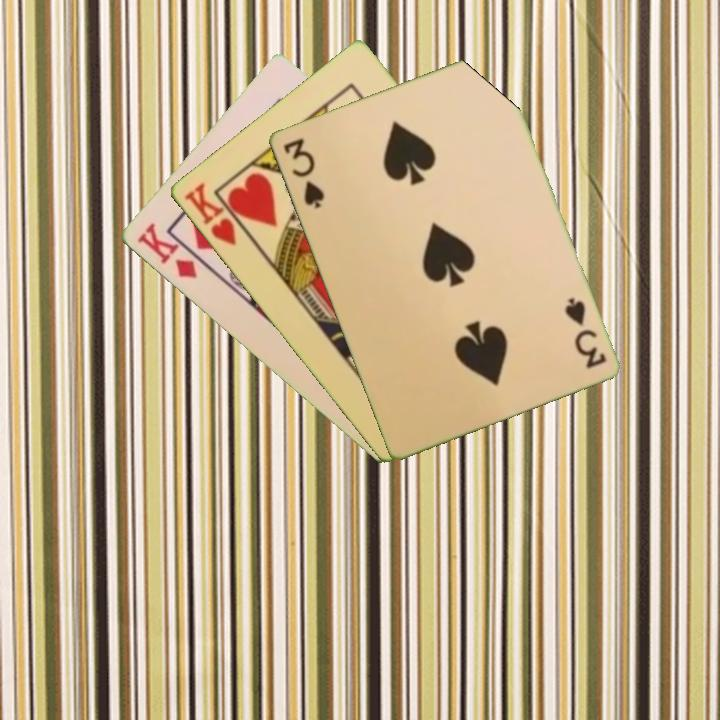3s: (560, 293, 609, 371), (279, 134, 327, 211)
Kd: (133, 219, 200, 282)
Kh: (180, 179, 253, 249)
